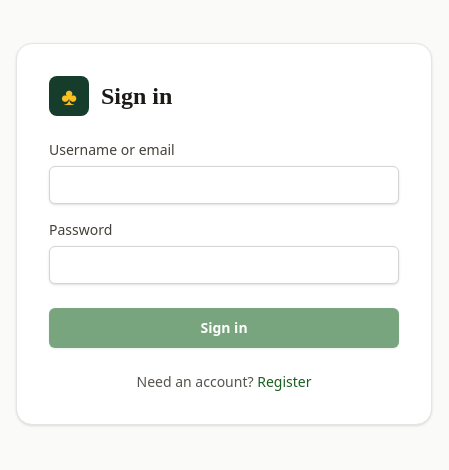
it: LoginComponent › shows an error message on 401
Type "alice" into the field with test id "usernameOrEmail".
click(224, 185); type("alice")  # box [49, 166, 399, 204]
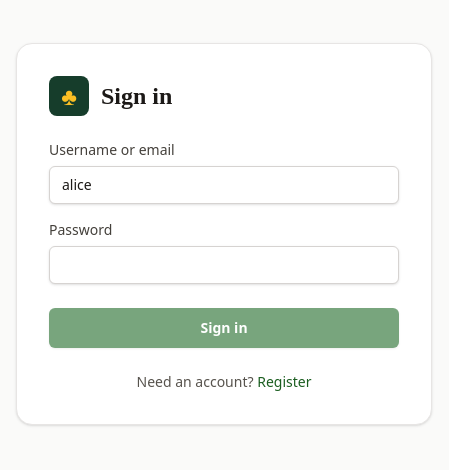
Type "wrongpassword" into the password field with test id "password".
click(224, 265); type("wrongpassword")  # box [49, 246, 399, 284]
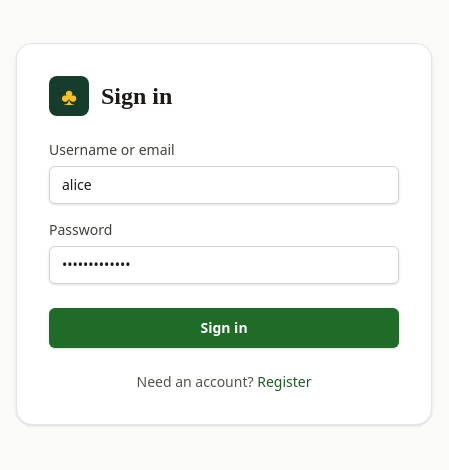
Click the button with test id "submit".
click(224, 328)  # box [49, 308, 399, 348]
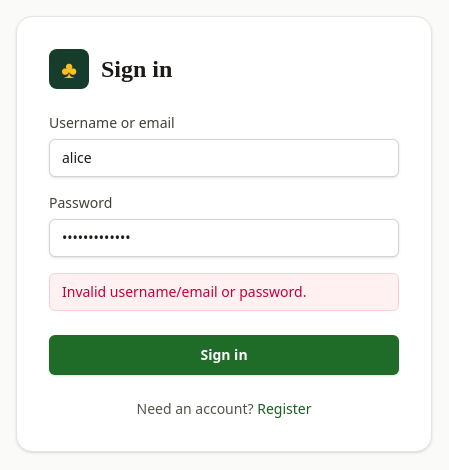
Expected: the message shows "Invalid", [62, 282, 306, 301]
